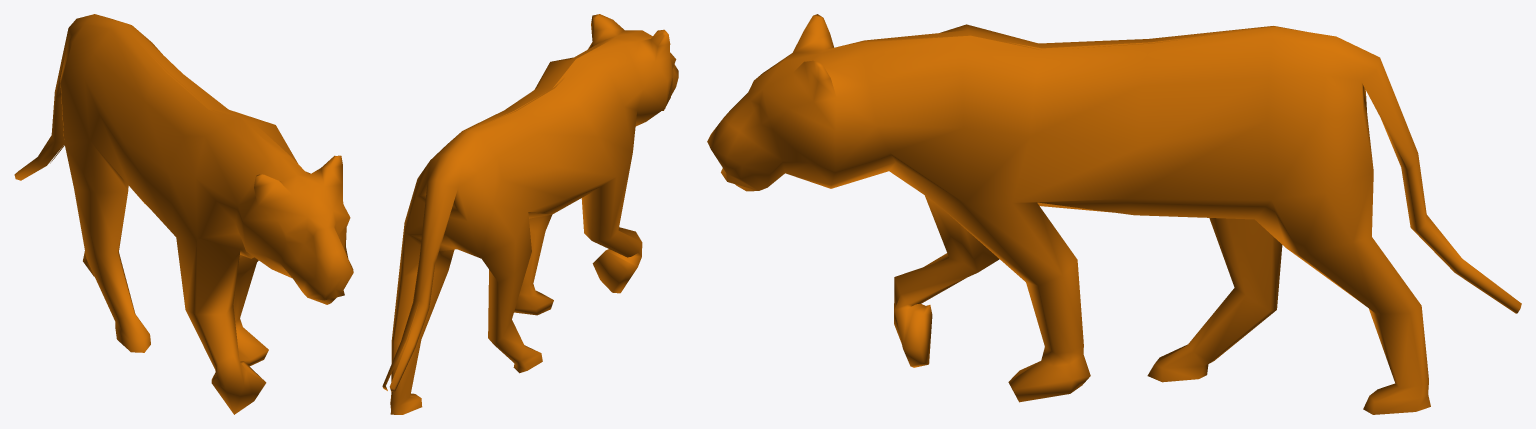
Rendered from tiger-walk2.gltf.
The picture shows the model from 3 angles, left to right: view 1: azimuth 30°, elevation 25°; view 2: azimuth 150°, elevation 25°; view 3: azimuth 270°, elevation 25°; orthographic projection. The views are drawn at different scales.
Bounding box in the file's own units: 0.7718 × 1.93 × 3.9.
